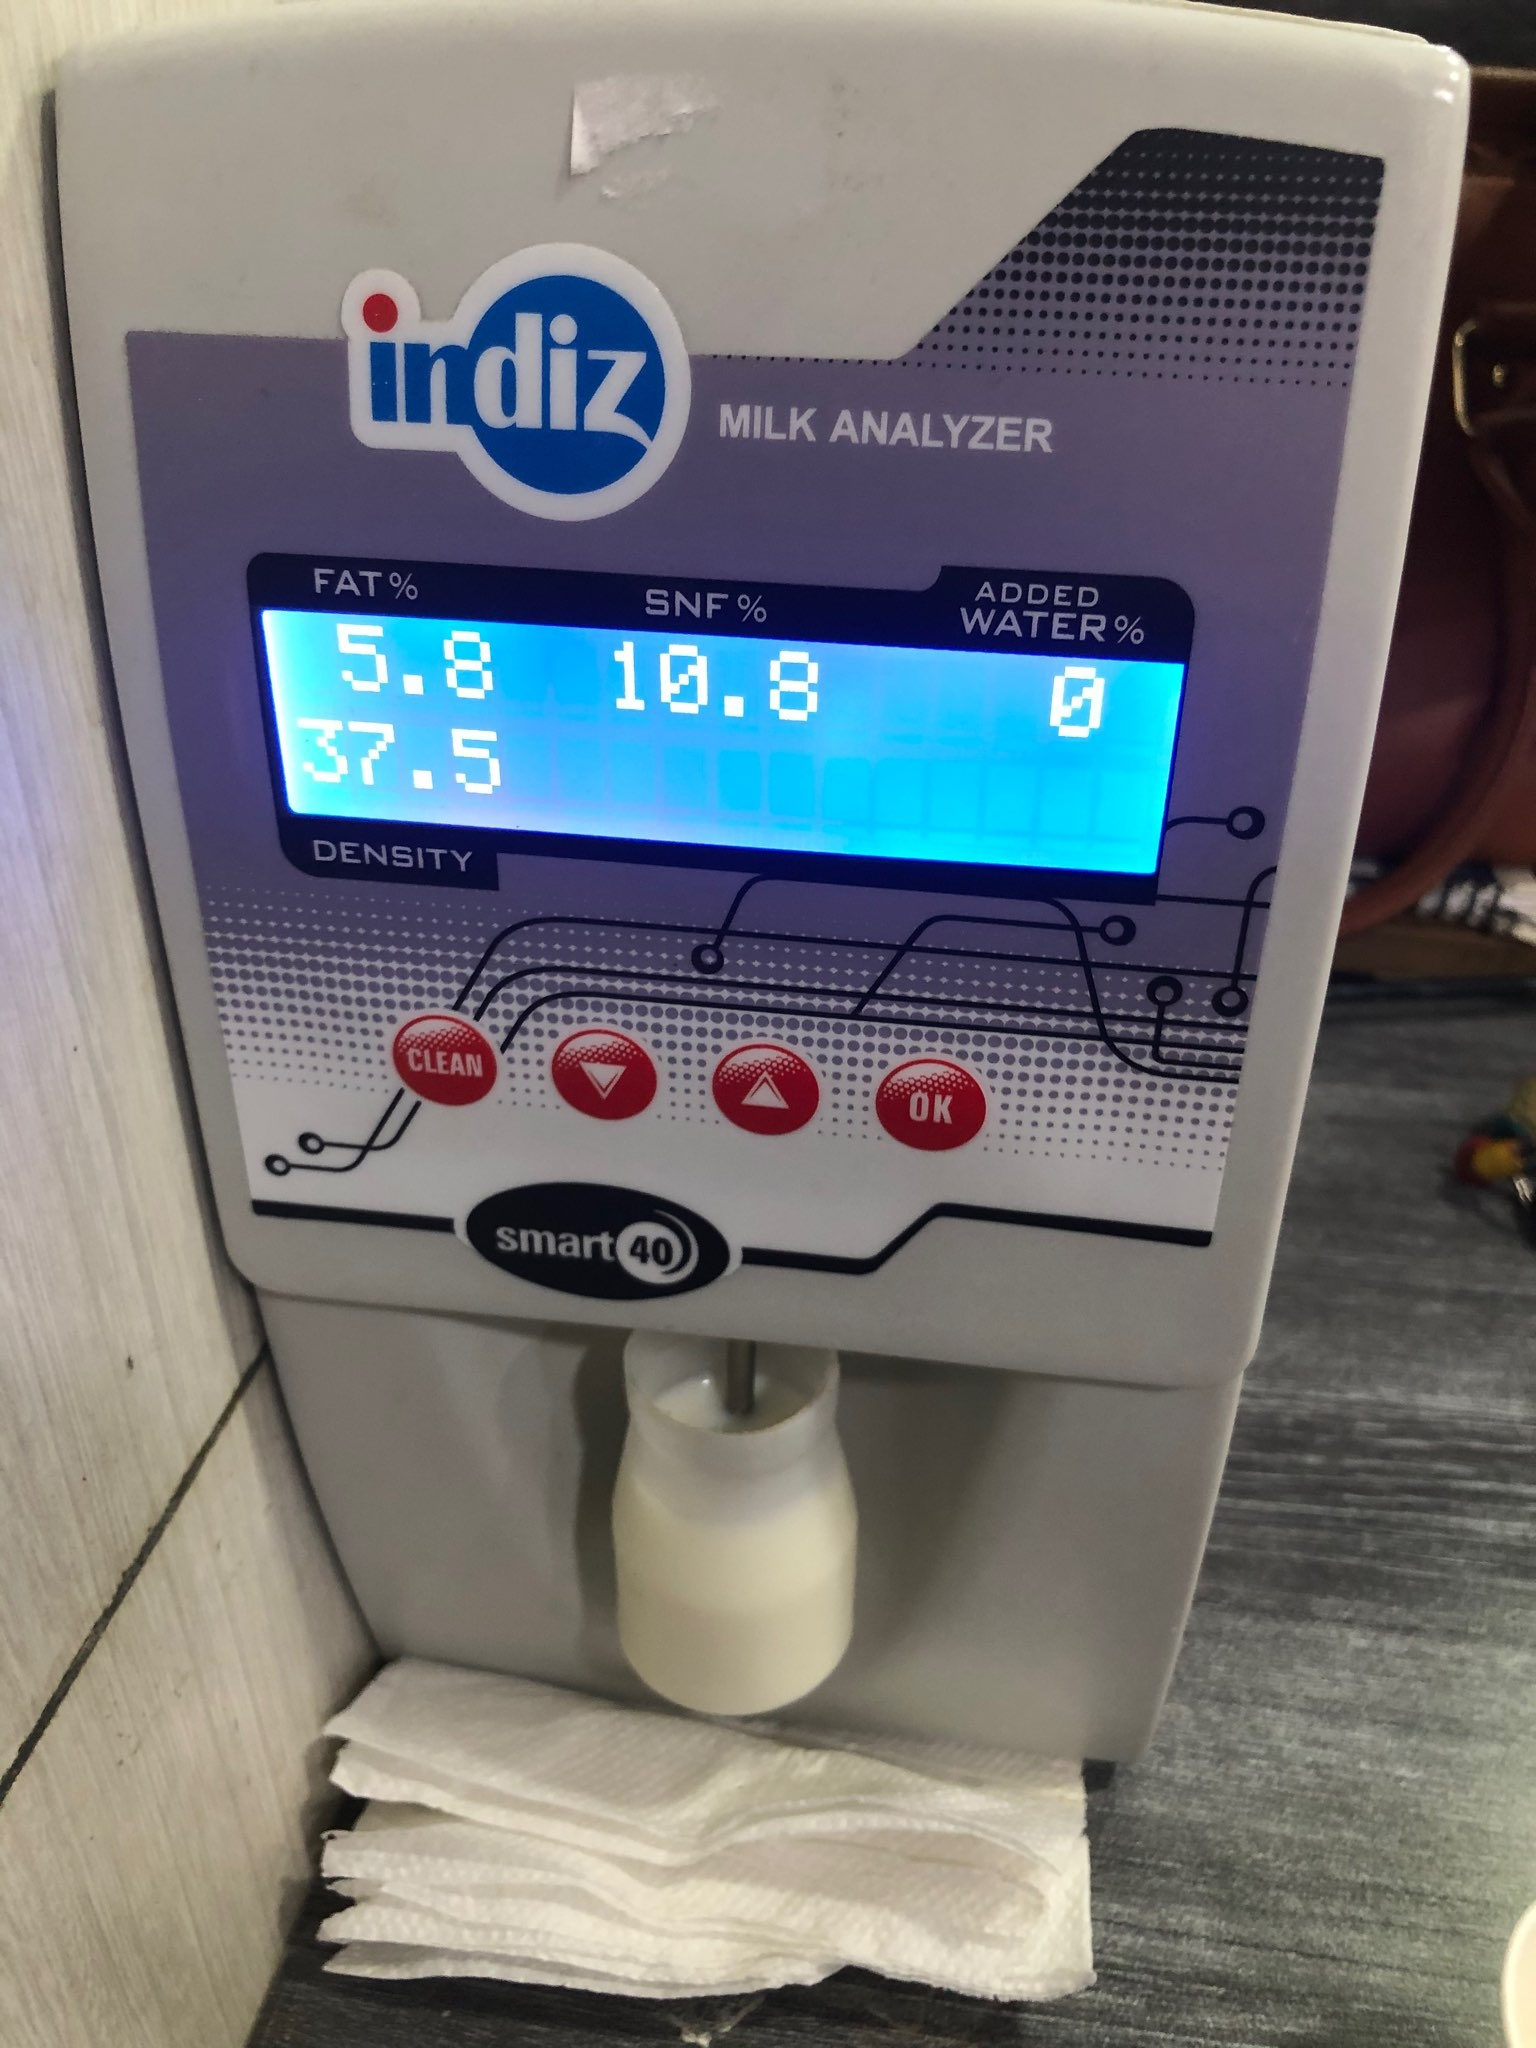lcd: (250, 527, 1191, 945)
